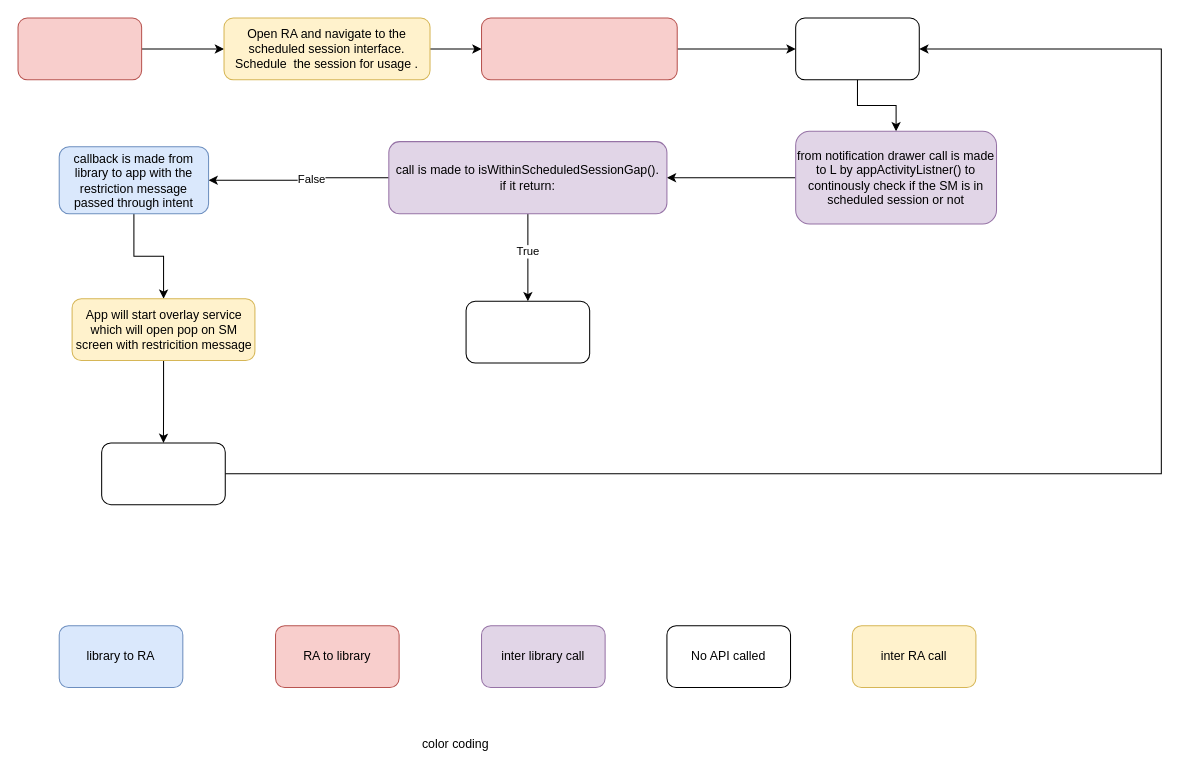
Some shapes in this 1188 by 778 pixel diagram are drawn without their labels. Each missing label, with the box of its shape:
AppActivityListener thread of RA starts listening from notification drawer: (17, 17, 142, 80)
saveScheduledSession() API is called from app to Library to save the data: (480, 17, 677, 80)
User closes the SM: (101, 442, 225, 505)
User is permitted to use SM: (465, 300, 590, 363)
User open SM: (795, 17, 919, 80)
